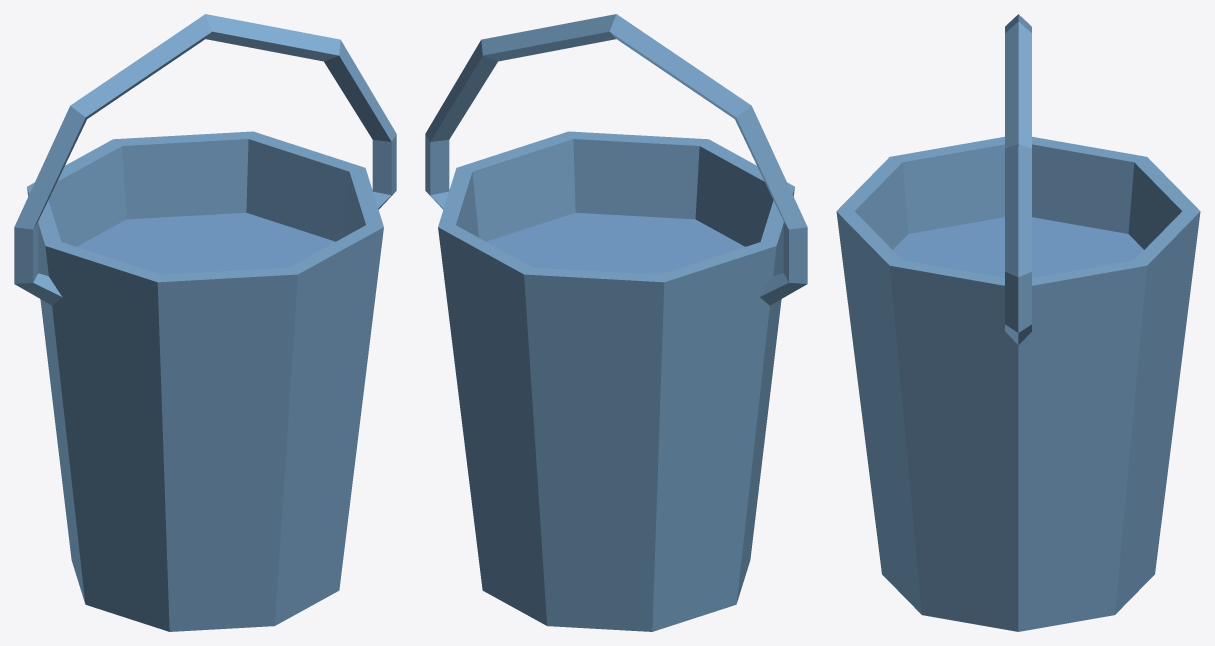
Rendered from Bucket3Water.fbx.
3 views of the same model, side by side, from view 1: azimuth 30°, elevation 25°; view 2: azimuth 150°, elevation 25°; view 3: azimuth 270°, elevation 25° (orthographic).
Parts seen in each view (by area): view 1: Cylinder, Cylinder.001; view 2: Cylinder, Cylinder.001; view 3: Cylinder, Cylinder.001.
Part boxes in pixels (x1,y1,x2,y2): Cylinder: (27,131,383,631); Cylinder.001: (14,14,396,305); Cylinder: (438,131,794,631); Cylinder.001: (425,14,807,305); Cylinder: (836,136,1200,631); Cylinder.001: (1005,14,1031,344).
Size of the model in its own units: 0.717 by 1.01 by 0.6.
